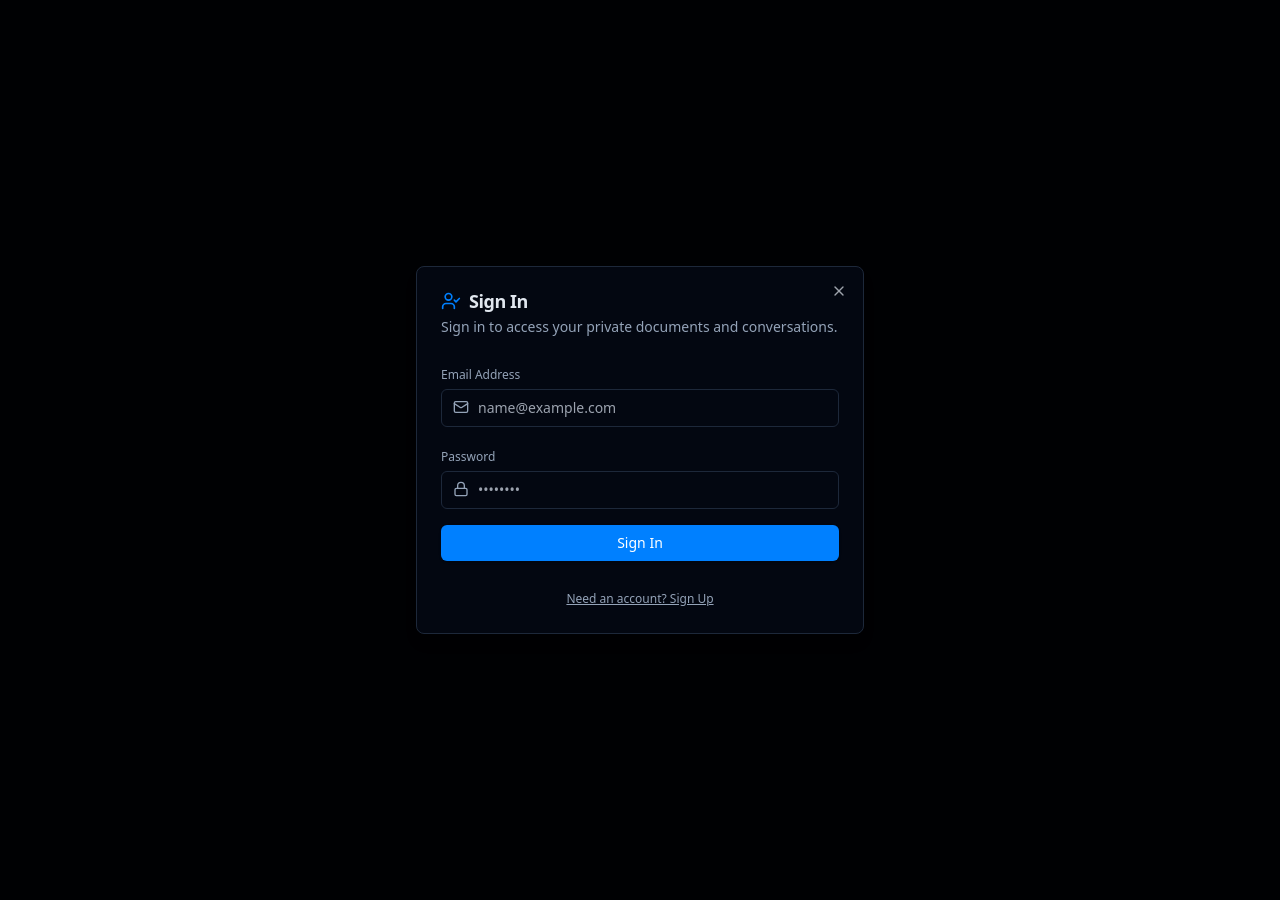
Scenario: AuthModal › toggles between sign in and sign up
Click the button "Need an account? Sign Up": x=640, y=599 566,591 -> 714,607
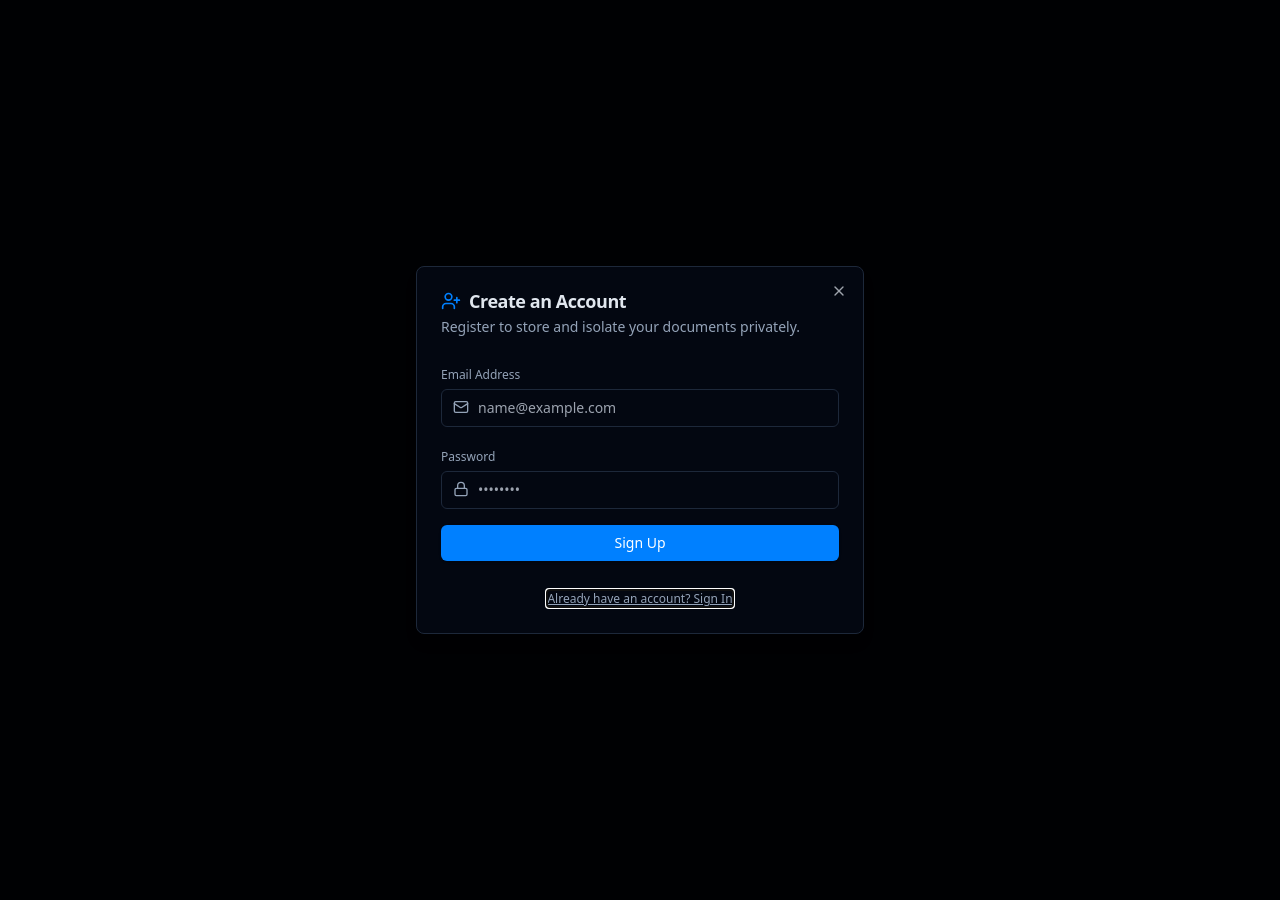
Expected: the heading "Create an Account" is shown, 441,289 -> 626,313
Expected: the button "Sign Up" is shown, 441,525 -> 839,561
